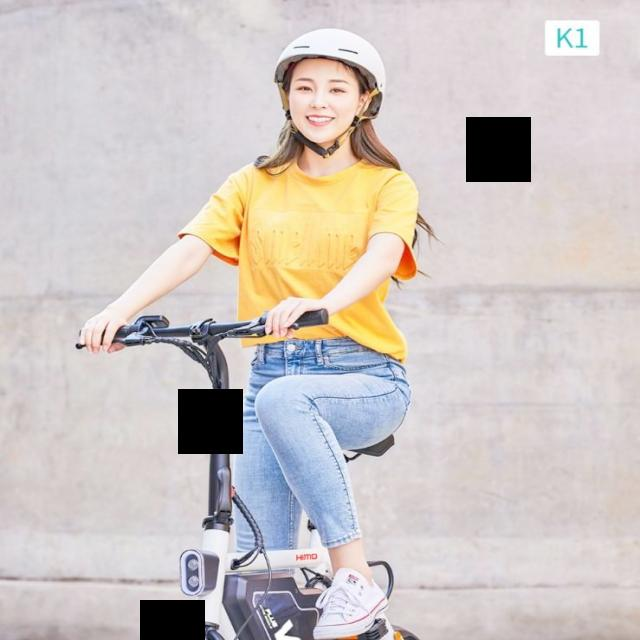Helmet: (274, 26, 389, 148)
